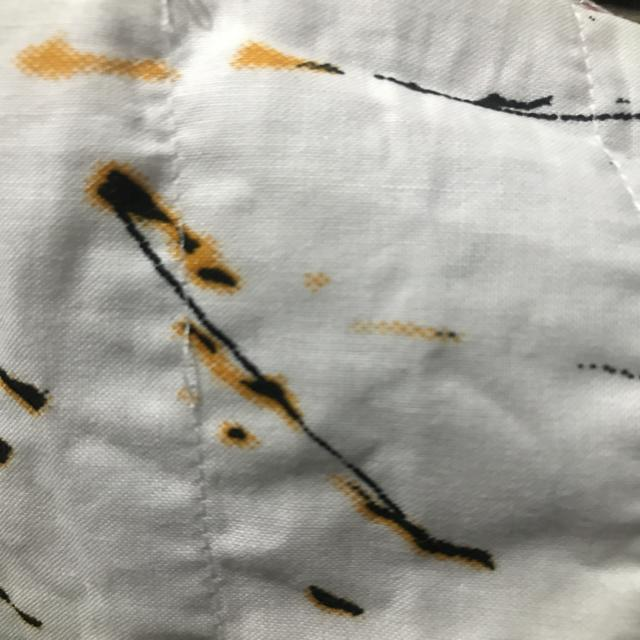skip: (164, 310, 226, 446)
